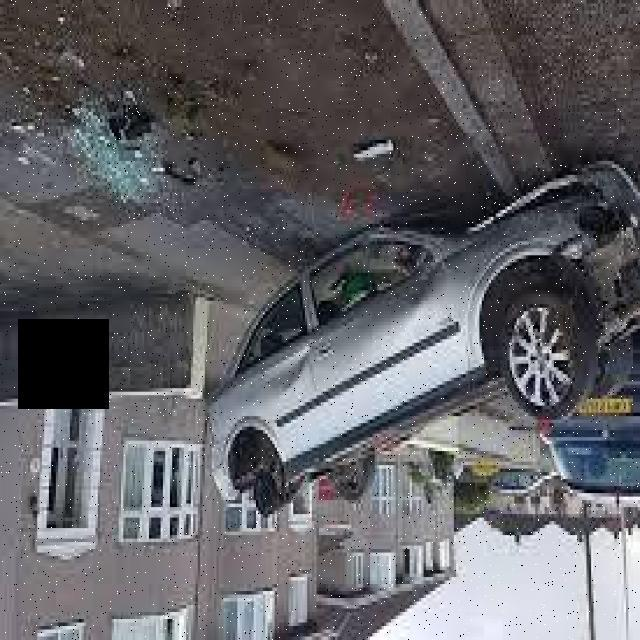severe: (207, 158, 640, 532)
